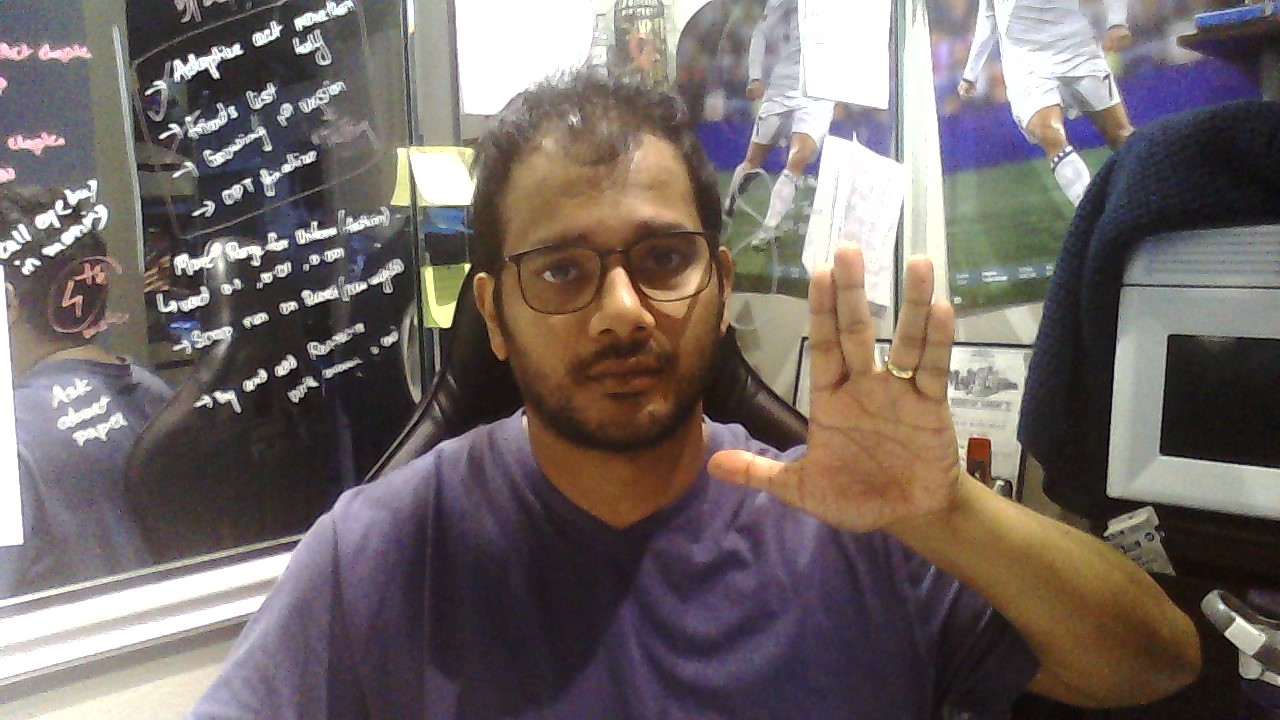LiveLong: (707, 242, 959, 532)
